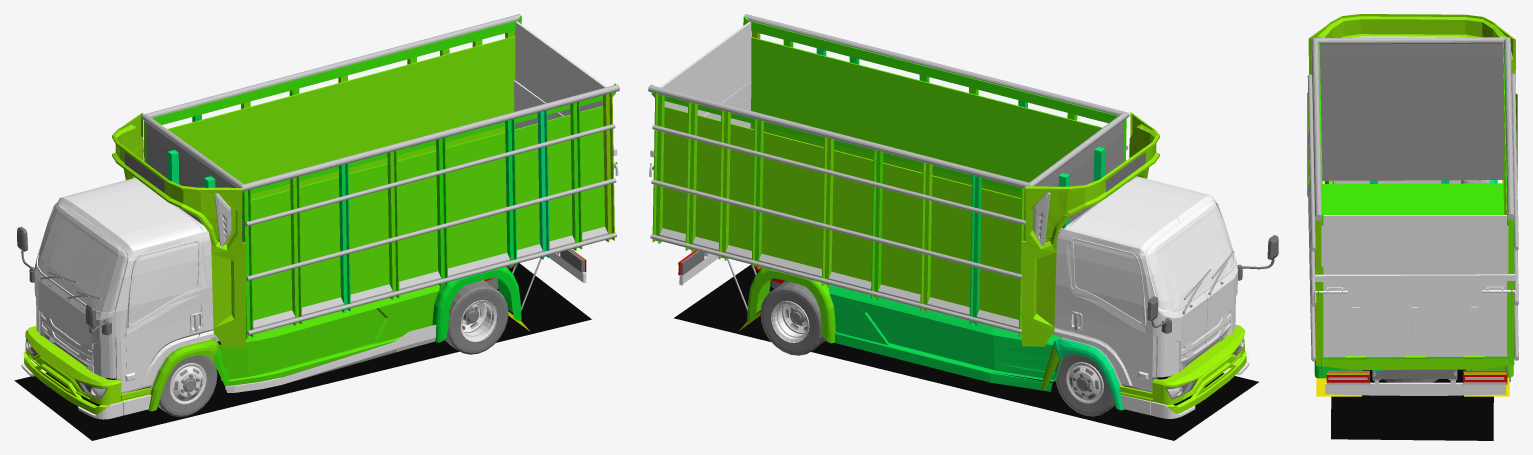
Rendered from Proyek baru 2.gltf.
3 renders of one model, left to right at view 1: azimuth 30°, elevation 25°; view 2: azimuth 150°, elevation 25°; view 3: azimuth 270°, elevation 25°, orthographic.
Parts seen in each view (by area): view 1: box26, box261, box2, Cube (×2), Papan, box71, box21, Kubus, box26111, box21111111111111111, line32, line3 (+25 smaller); view 2: box261, box26, box21, NMR 71 BY RG, Papan, box71, box2, Kubus, box2621, box21111111111111111, line3, line32 (+23 smaller); view 3: box25, box28, Kubus (×3), Papan (×2), box19, box71, box251, box83, line3, line32, Kubus 3, box24323 (+16 smaller).
Part boxes in pixels (box(x1,y1,x2,y2)): box26: box(251, 106, 604, 320); box261: box(146, 36, 515, 199); box2: box(65, 201, 216, 391); Cube (×2): box(212, 285, 439, 392); Papan: box(14, 263, 591, 440); box71: box(112, 113, 245, 347); box21: box(34, 177, 175, 348); Kubus: box(514, 21, 606, 115); box26111: box(152, 16, 521, 124); box21111111111111111: box(24, 325, 121, 414); line32: box(191, 84, 619, 191); line3: box(141, 14, 521, 154); box261: box(662, 106, 1021, 319); box26: box(750, 37, 1102, 197); box21: box(1053, 199, 1207, 390); NMR 71 BY RG: box(828, 285, 1063, 391); Papan: box(674, 265, 1258, 440); box71: box(1022, 112, 1159, 346); box2: box(1104, 176, 1237, 347); Kubus: box(660, 22, 751, 115); box2621: box(743, 16, 1118, 123); box21111111111111111: box(1152, 324, 1246, 413); line3: box(648, 85, 1079, 188); line32: box(744, 14, 1129, 152); box25: box(1320, 57, 1503, 180); box28: box(1313, 273, 1516, 357); Kubus (×3): box(1321, 215, 1508, 386); Papan (×2): box(1316, 369, 1493, 440); box19: box(1322, 183, 1508, 359); box71: box(1307, 14, 1517, 196); box251: box(1319, 44, 1503, 58); box83: box(1322, 355, 1508, 369); line3: box(1411, 37, 1514, 219); line32: box(1311, 37, 1411, 220); Kubus 3: box(1325, 386, 1505, 395); box24323: box(1508, 218, 1514, 365).
Bounding box in the file's own units: 5.68 × 2.41 × 1.97.
